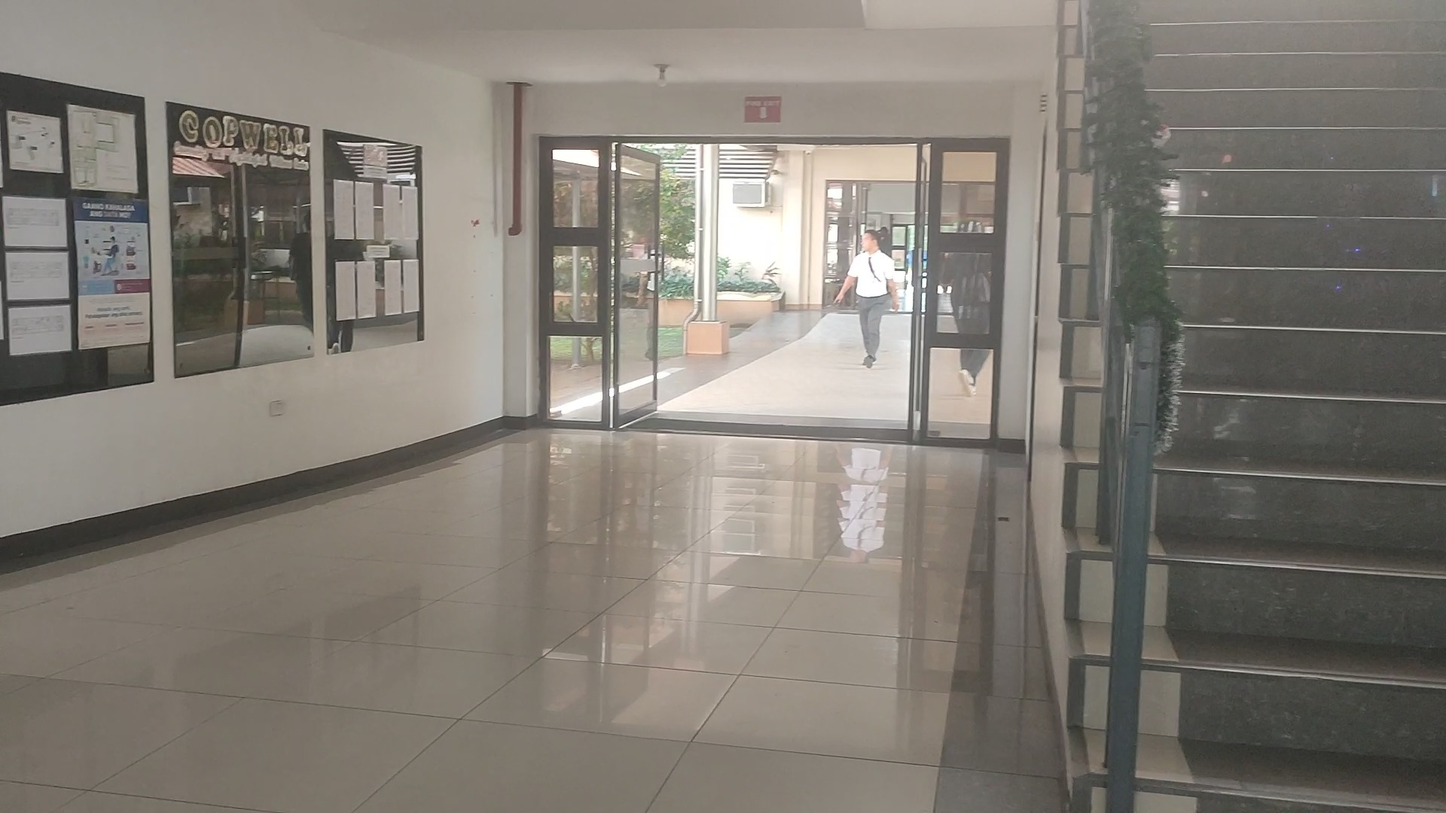Staircase: (1055, 0, 1446, 813)
